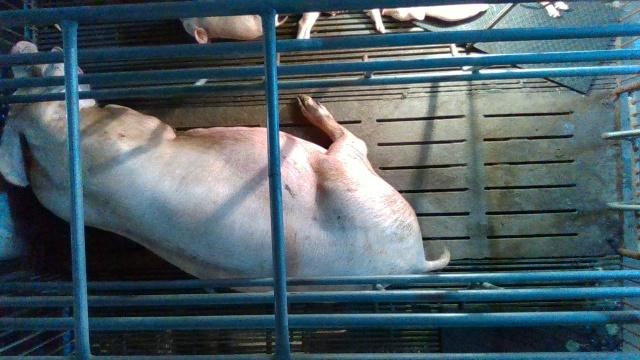piglet: (172, 4, 290, 48), (370, 0, 495, 24)
sow-sit: (0, 41, 452, 294)
